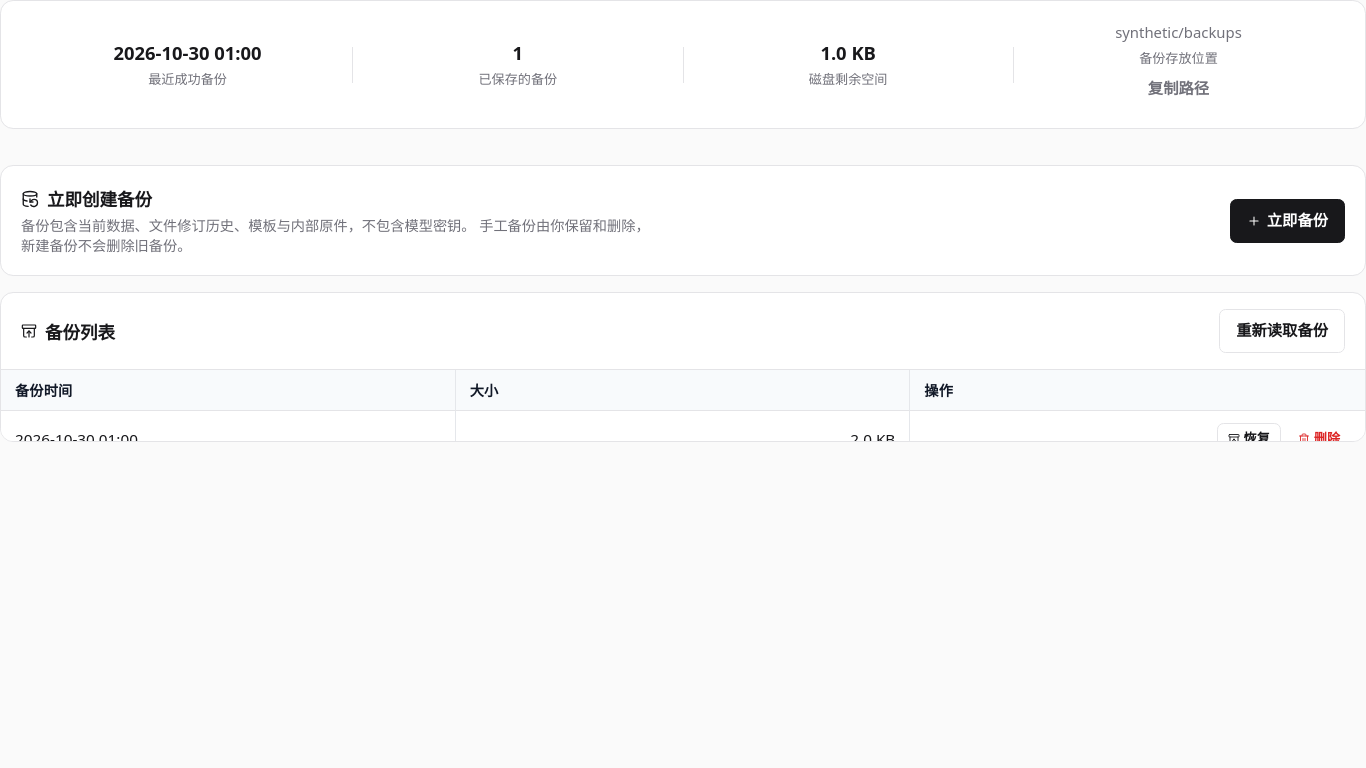
Test: backup read state › keeps successful creation distinct from its failed readback and never retries the write
Click the button "立即备份".
click(1287, 220)  # box [1230,198,1345,242]
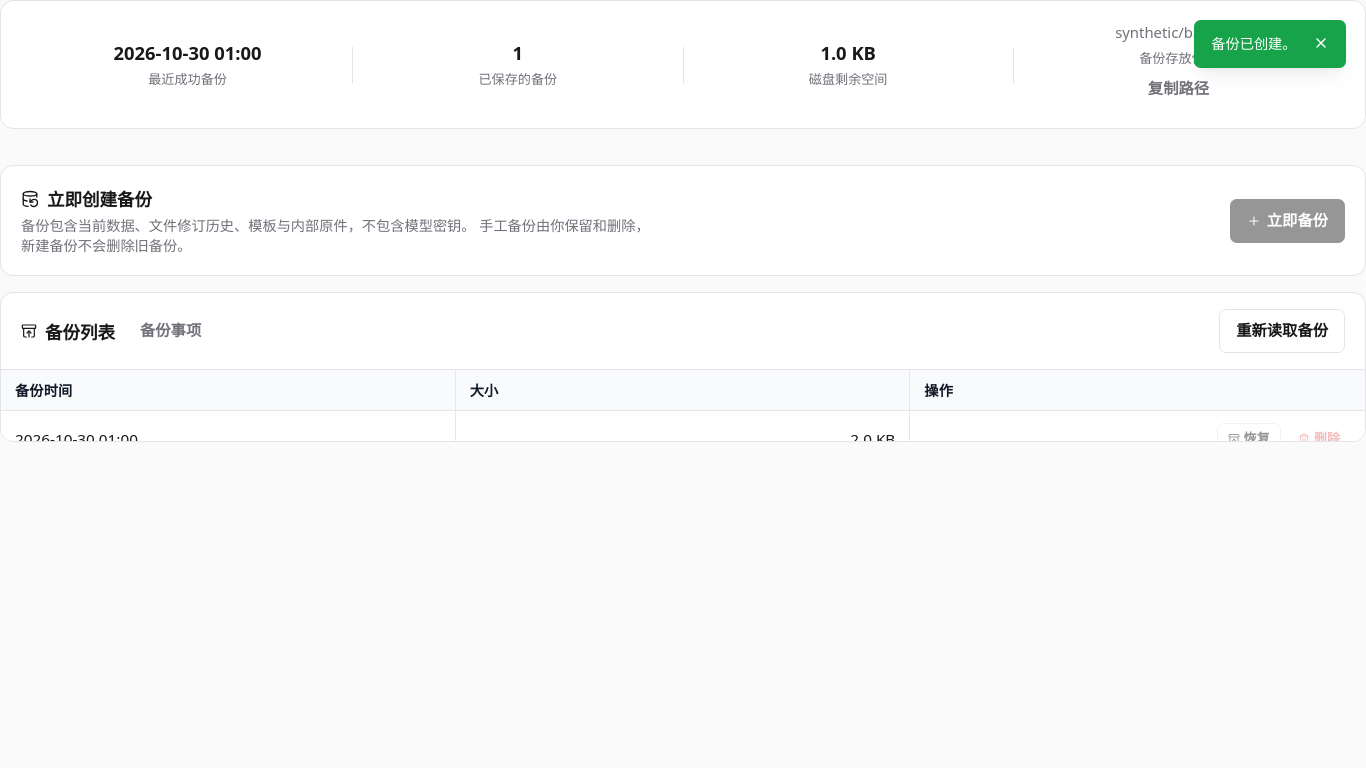
Expected: the text "备份已创建。" is shown, [1211,33,1296,54]
Click the button "备份事项".
click(171, 331)  # box [123,309,218,353]
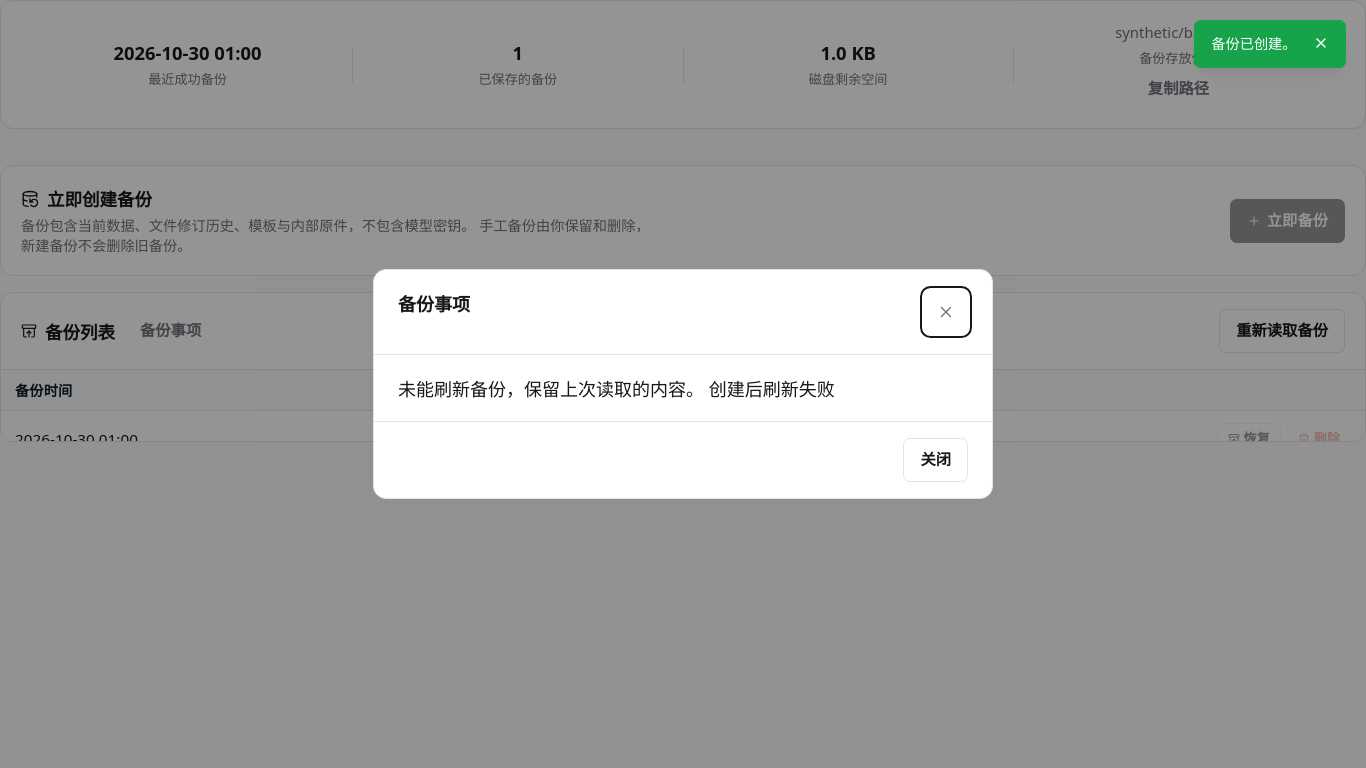
Expected: the dialog "备份事项" shows "创建后刷新失败", [709,377,835,401]
Click the button named "关闭备份事项".
click(946, 312)  # box [924,290,968,334]
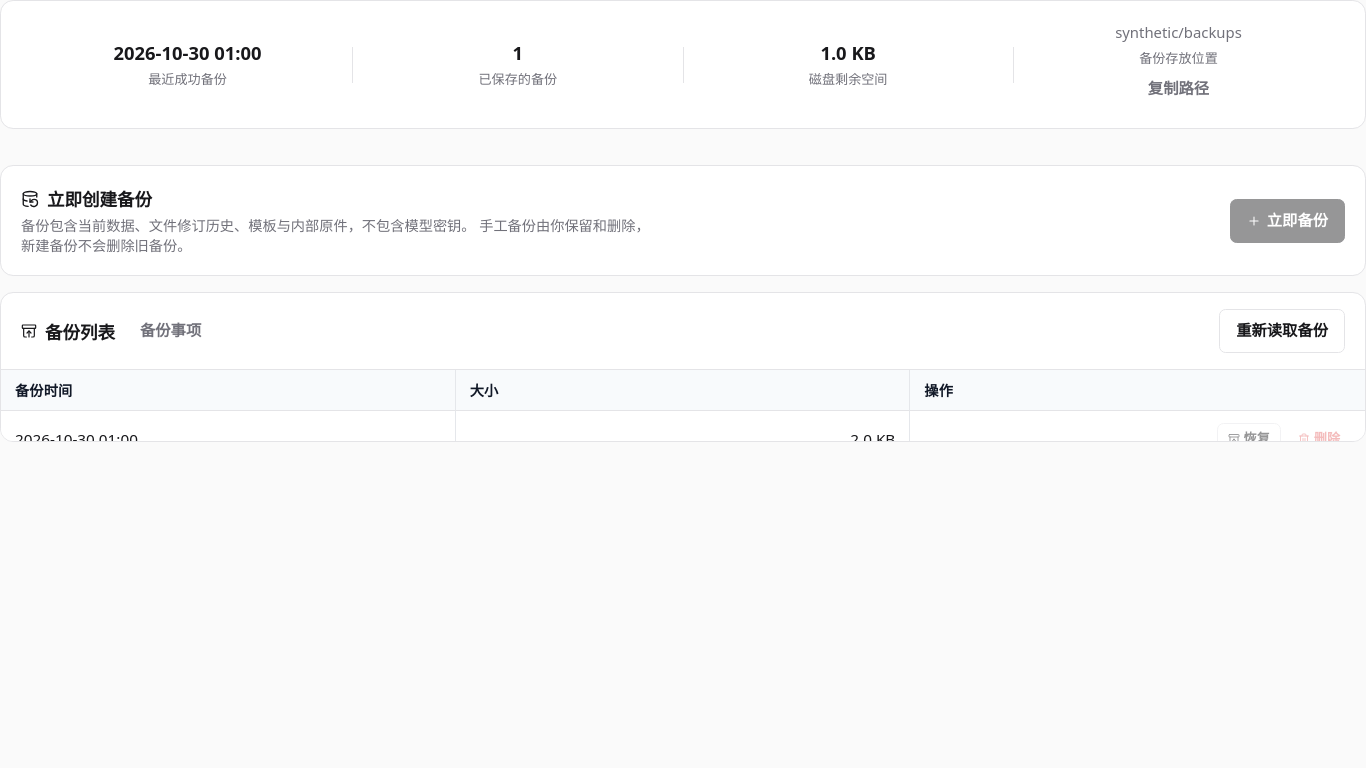
Expected: the button "立即备份" is disabled, [1230,198,1345,242]
Click the button "重新读取备份".
click(1282, 331)  # box [1219,309,1345,353]
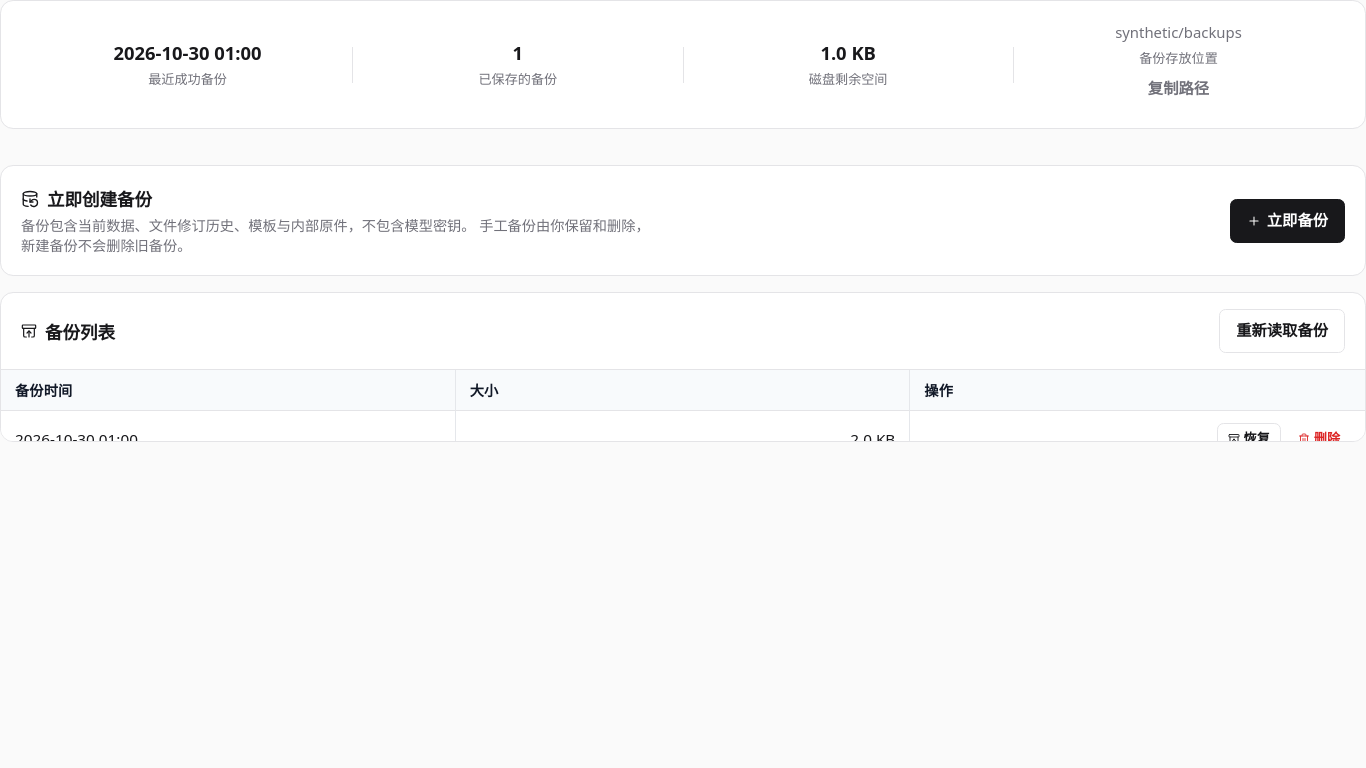
Expected: the button "立即备份" is enabled, [1230,198,1345,242]
